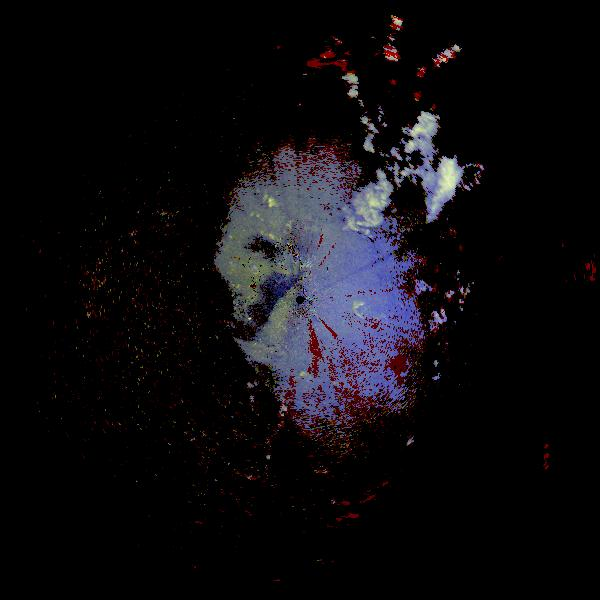roost: (351, 301, 369, 319), (297, 372, 309, 384)
